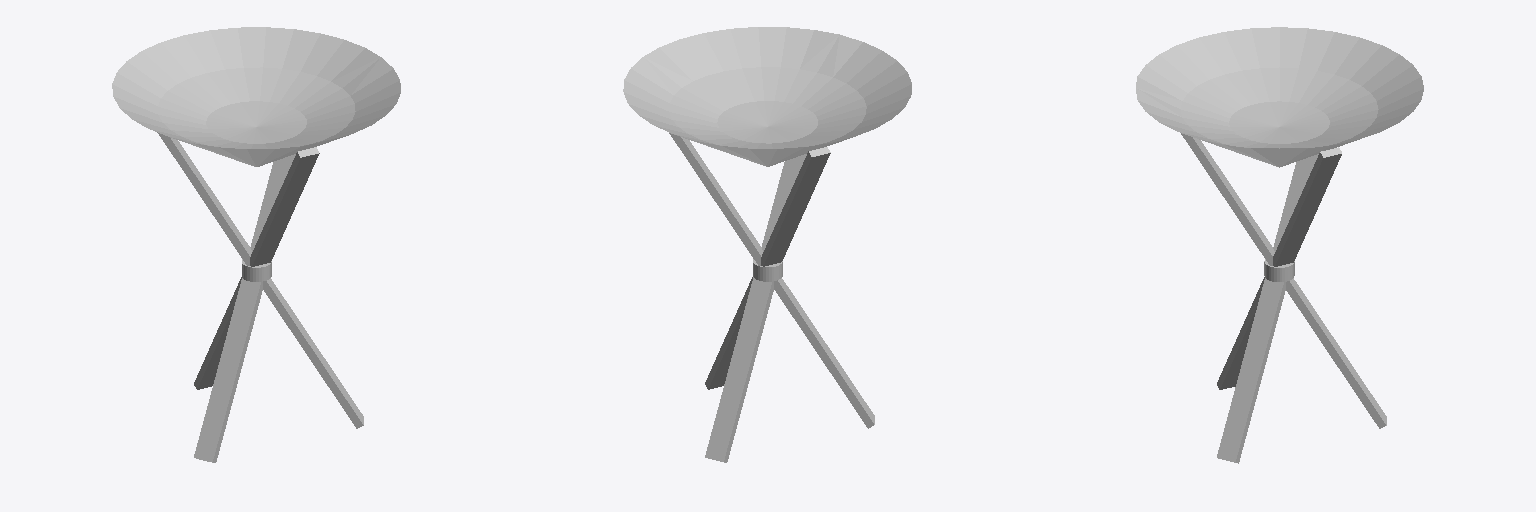
File: proto_brazier.obj
The picture shows the model from 3 angles: view 1: azimuth 30°, elevation 25°; view 2: azimuth 150°, elevation 25°; view 3: azimuth 270°, elevation 25°; orthographic projection.
Parts seen in each view (by area): view 1: Cone; view 2: Cone; view 3: Cone.
Part boxes in pixels (x1,y1,x2,y2): Cone: (112,27,400,462); Cone: (623,27,911,462); Cone: (1136,27,1423,463).
Size of the model in its own units: 1.99 by 2.57 by 1.99.